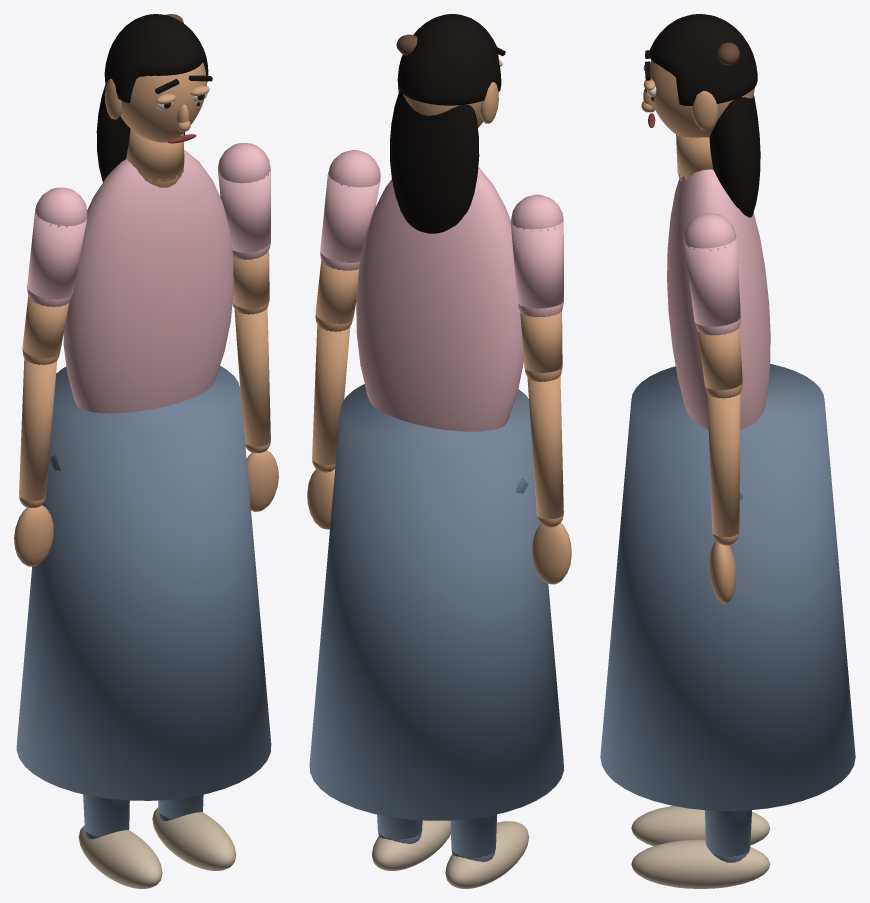
Rendered from yen.glb.
3 renders of one model, left to right at view 1: azimuth 30°, elevation 25°; view 2: azimuth 150°, elevation 25°; view 3: azimuth 270°, elevation 25°, orthographic.
Visible parts, largest first — view 1: Cone.004, Sphere.011, Sphere.027, Cone.008, Cone.011, Cone.006, Sphere.014, Sphere.004, Sphere.009, Cone.009, Cone.005, Cone.007 (+8 smaller); view 2: Cone.004, Sphere.011, Sphere.028, Sphere.027, Cone.008, Cone.006, Cone.011, Cone.009, Sphere.004, Cone.007, Sphere.009, Cone.010 (+8 smaller); view 3: Cone.004, Sphere.011, Sphere.027, Sphere.009, Sphere.028, Cone.011, Cone.009, Sphere.004, Sphere.014, Cone.010, Cone.003, Sphere.037 (+3 smaller).
Boxes of the visible parts, <box> form: Cone.004: <box>16,366,271,800</box>; Sphere.011: <box>63,150,233,413</box>; Sphere.027: <box>104,14,208,103</box>; Cone.008: <box>19,358,57,500</box>; Cone.011: <box>234,307,270,446</box>; Cone.006: <box>27,208,87,299</box>; Sphere.014: <box>120,62,206,142</box>; Sphere.004: <box>78,825,162,888</box>; Sphere.009: <box>152,807,236,870</box>; Cone.009: <box>218,165,270,252</box>; Cone.005: <box>126,129,184,182</box>; Cone.007: <box>22,297,69,358</box>; Cone.004: <box>309,384,564,820</box>; Sphere.011: <box>356,167,523,431</box>; Sphere.028: <box>390,91,479,233</box>; Sphere.027: <box>397,14,501,105</box>; Cone.008: <box>527,376,563,519</box>; Cone.006: <box>511,219,563,308</box>; Cone.011: <box>312,324,350,465</box>; Cone.009: <box>320,172,380,262</box>; Sphere.004: <box>445,821,529,888</box>; Cone.007: <box>520,311,562,372</box>; Sphere.009: <box>372,820,450,870</box>; Cone.010: <box>315,261,358,323</box>; Cone.004: <box>600,364,855,810</box>; Sphere.011: <box>667,169,770,430</box>; Sphere.027: <box>648,14,757,105</box>; Sphere.009: <box>631,839,770,888</box>; Sphere.028: <box>709,95,760,217</box>; Cone.011: <box>707,393,740,537</box>; Cone.009: <box>684,237,740,326</box>; Sphere.004: <box>631,806,770,846</box>; Sphere.014: <box>649,60,754,137</box>; Cone.010: <box>698,327,742,390</box>; Cone.003: <box>705,810,751,856</box>; Sphere.037: <box>683,213,736,250</box>.
Size of the model in its own units: 0.502 by 1.55 by 0.4224.
